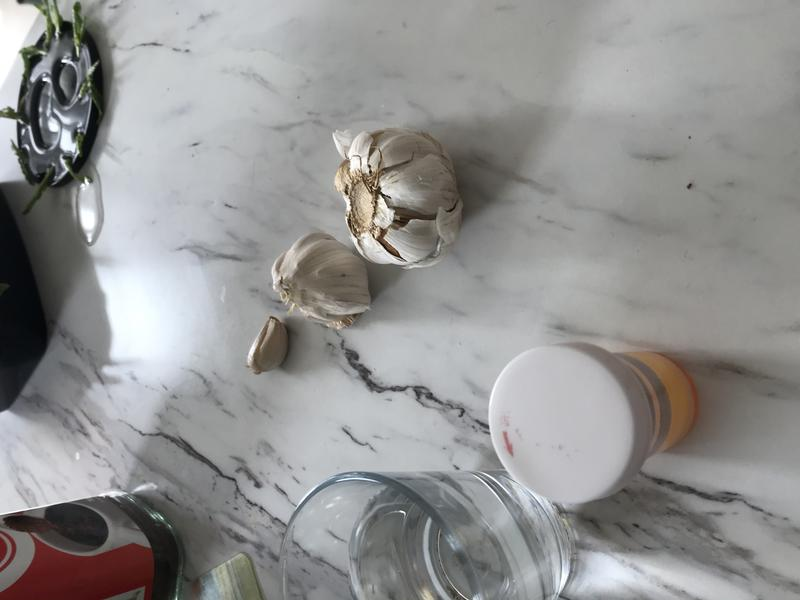garlic: (330, 111, 479, 271), (269, 225, 381, 325), (245, 312, 293, 382)
